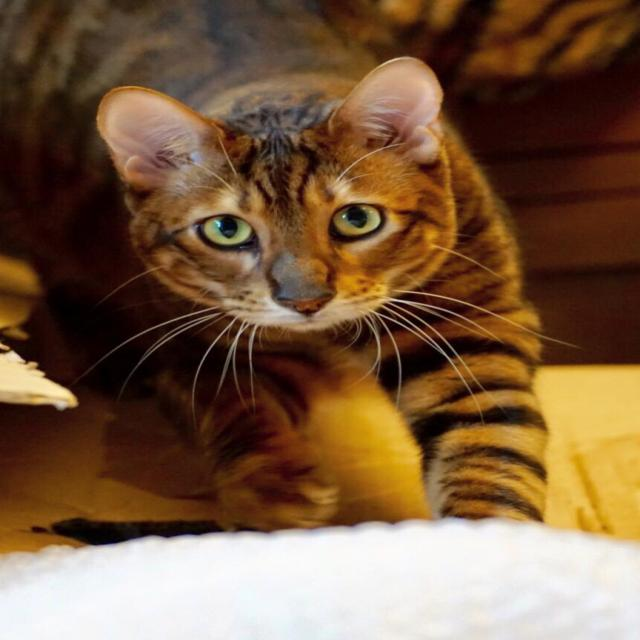Toyger: (0, 0, 559, 528)
